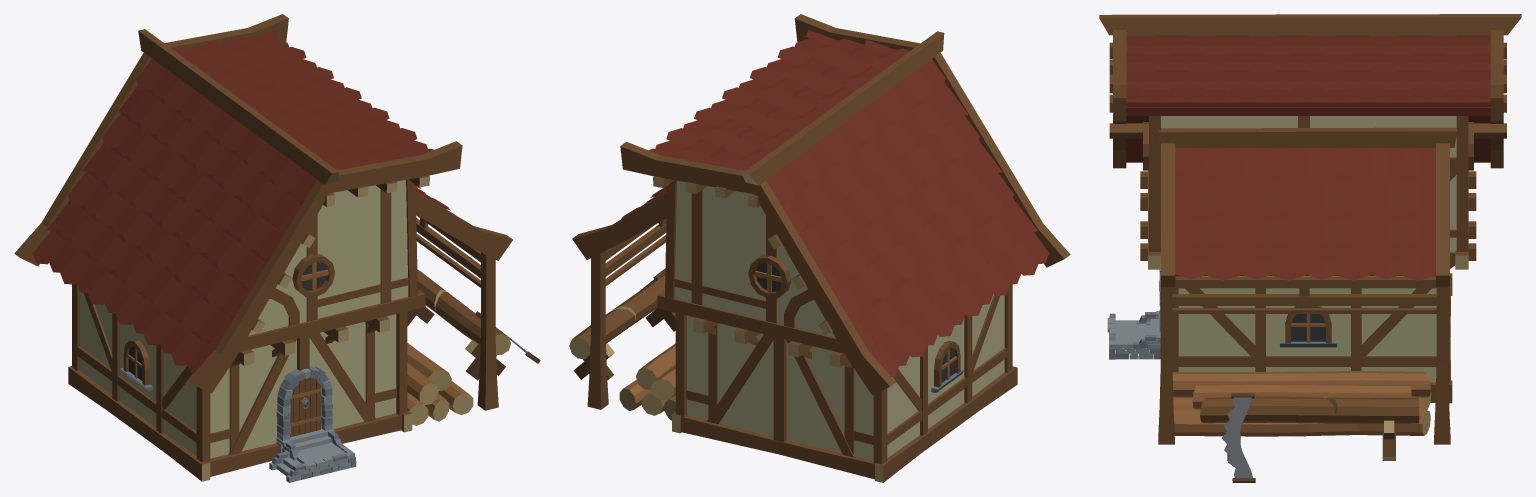
File: AserraderoModel.fbx
3 renders of one model, left to right at view 1: azimuth 30°, elevation 25°; view 2: azimuth 150°, elevation 25°; view 3: azimuth 270°, elevation 25°, orthographic. The views are drawn at different scales.
Parts seen in each view (by area): view 1: Sawmill; view 2: Sawmill; view 3: Sawmill.
Part boxes in pixels (x1,y1,x2,y2): Sawmill: (14, 14, 540, 482); Sawmill: (569, 14, 1070, 482); Sawmill: (1099, 14, 1521, 482).
Bounding box in the file's own units: 1177 × 859 × 985.
